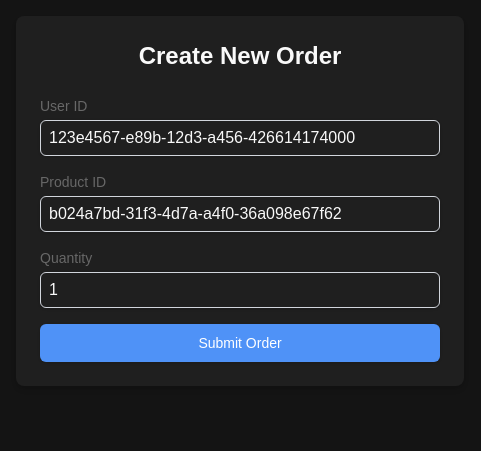
Scenario: CreateOrderForm › validates product ID
This screenshot has width=481, height=451.
Clear the product ID field which has a default value
Clear the field labelled "Product ID" at (240, 214), box [40, 196, 440, 232]
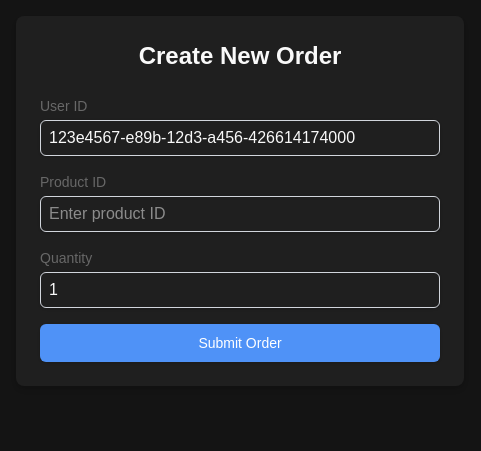
Submit the form
Click the button "Submit Order" at (240, 343), box [40, 324, 440, 362]
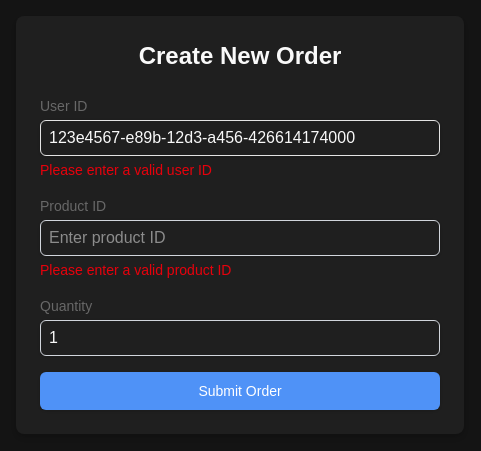
Result: the text "Please enter a valid product ID" is shown at [40, 262, 232, 278]
